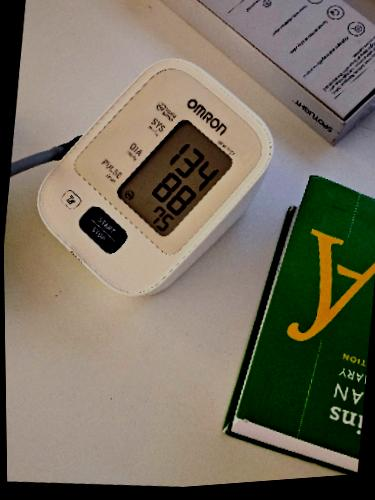bpm: (112, 115, 237, 241)
